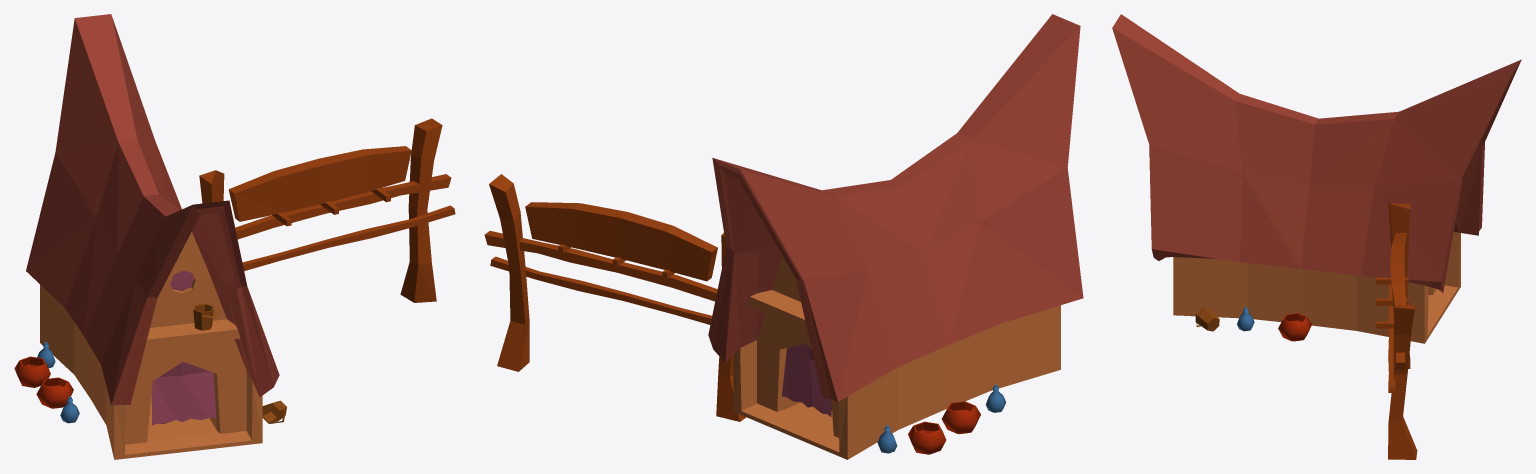
The model's file is Shop.FBX.
3 views of the same model, side by side, from view 1: azimuth 30°, elevation 25°; view 2: azimuth 150°, elevation 25°; view 3: azimuth 270°, elevation 25° (orthographic). The views are drawn at different scales.
Parts seen in each view (by area): view 1: Shop; view 2: Shop; view 3: Shop.
Part boxes in pixels (x1,y1,x2,y2): Shop: (14, 14, 455, 459); Shop: (484, 14, 1083, 459); Shop: (1112, 14, 1521, 459).
Bounding box in the file's own units: 19.98 × 12.66 × 17.26.
